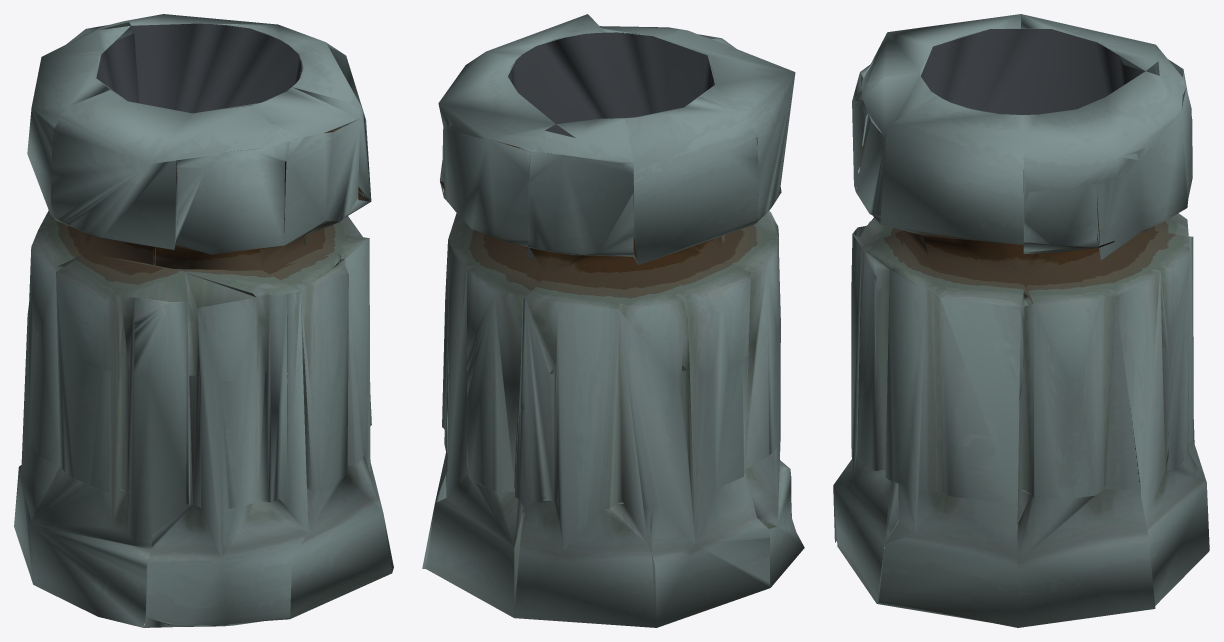
The model's file is M-10_08b_bin.glb.
3 renders of one model, left to right at view 1: azimuth 30°, elevation 25°; view 2: azimuth 150°, elevation 25°; view 3: azimuth 270°, elevation 25°, orthographic.
Visible parts, largest first — view 1: bin; view 2: bin; view 3: bin.
Part boxes in pixels (x1=…): bin: x1=14, y1=14, x2=393, y2=627; bin: x1=422, y1=14, x2=804, y2=627; bin: x1=833, y1=14, x2=1209, y2=627.
Size of the model in its own units: 1.09 by 1.5 by 1.07.
2 materials, 1 textured.
